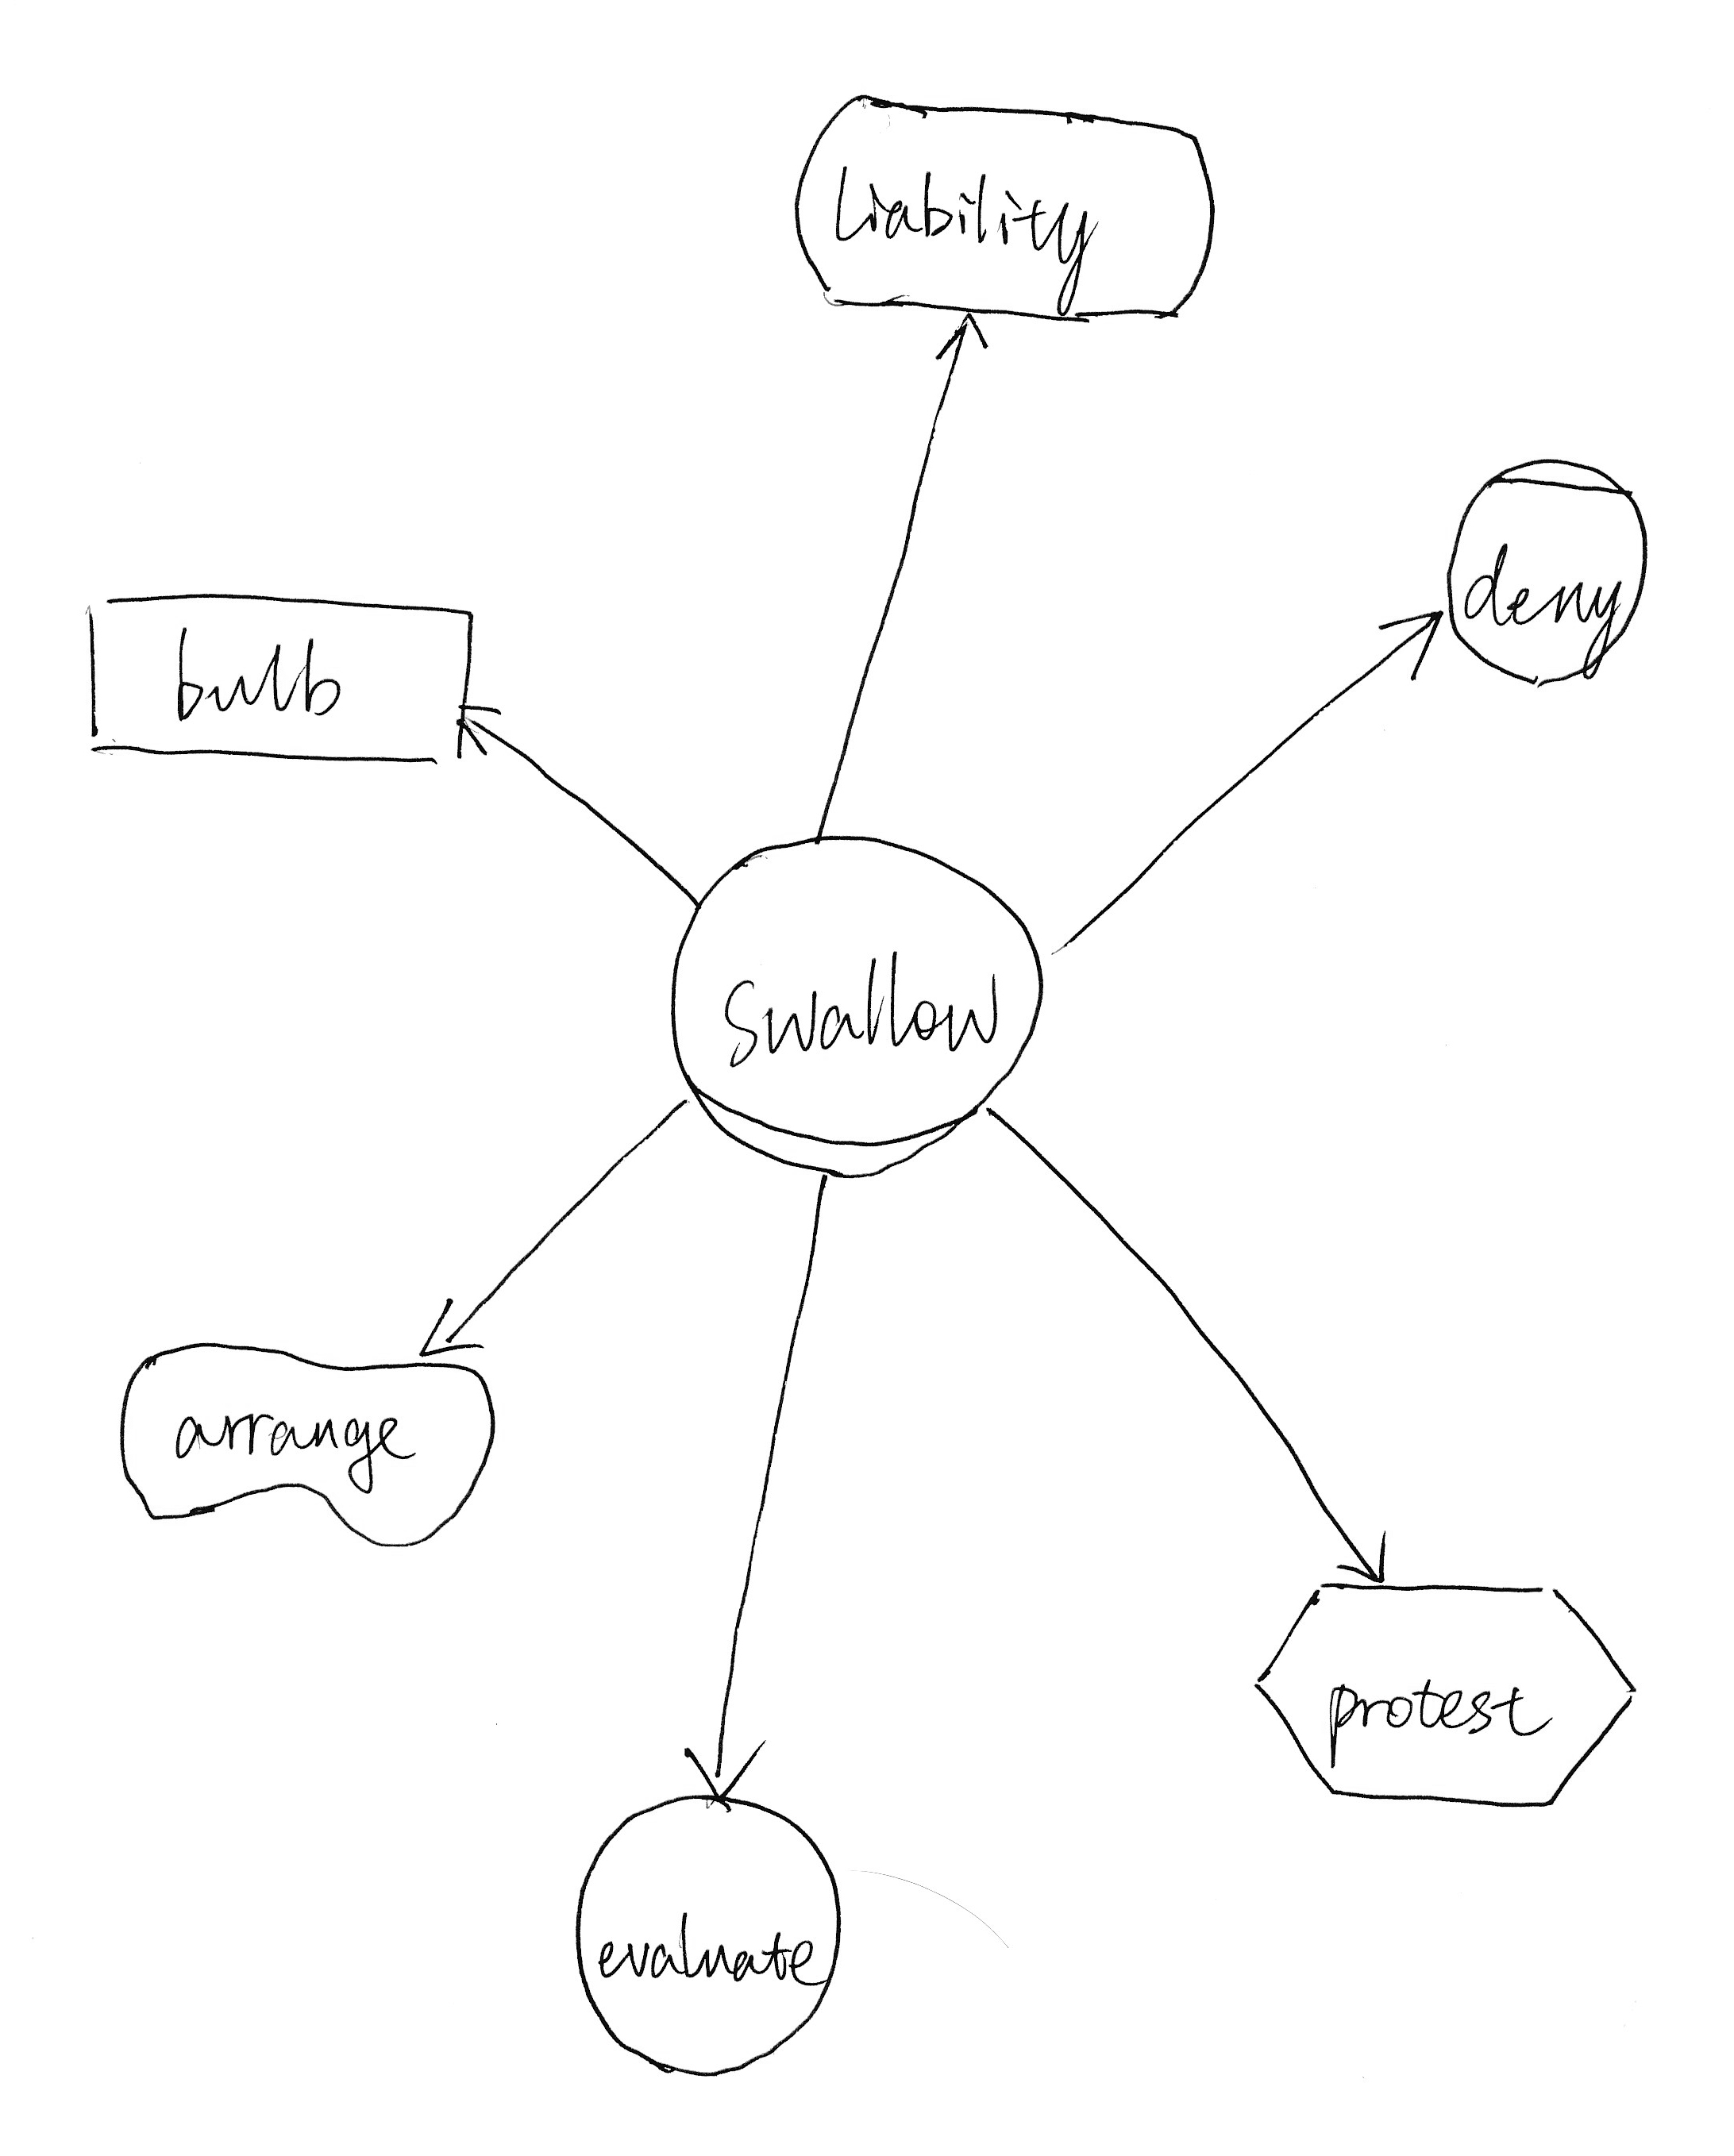actor: (563, 1776, 856, 2089)
agent: (1433, 442, 1665, 704)
arrow: (665, 1717, 780, 1820), (398, 1273, 511, 1367), (1366, 587, 1449, 692), (1309, 1502, 1408, 1586), (448, 692, 536, 776), (915, 310, 1014, 377)
goal: (773, 69, 1230, 338)
quality: (101, 1330, 503, 1565)
resource: (55, 566, 488, 791)
role: (651, 821, 1067, 1192)
task: (1246, 1565, 1654, 1834)
